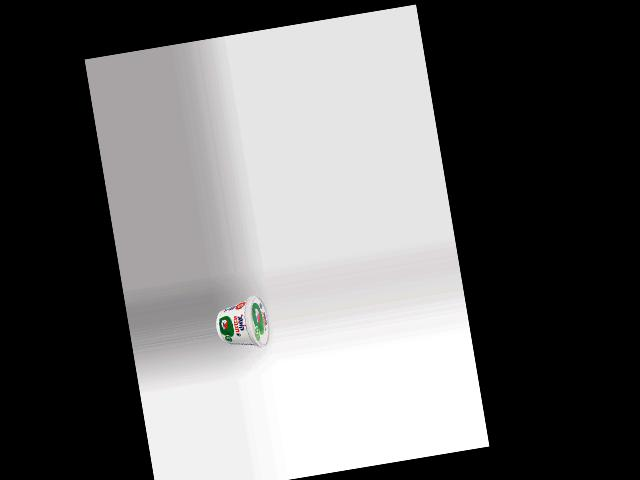cotage: (212, 292, 273, 354)
